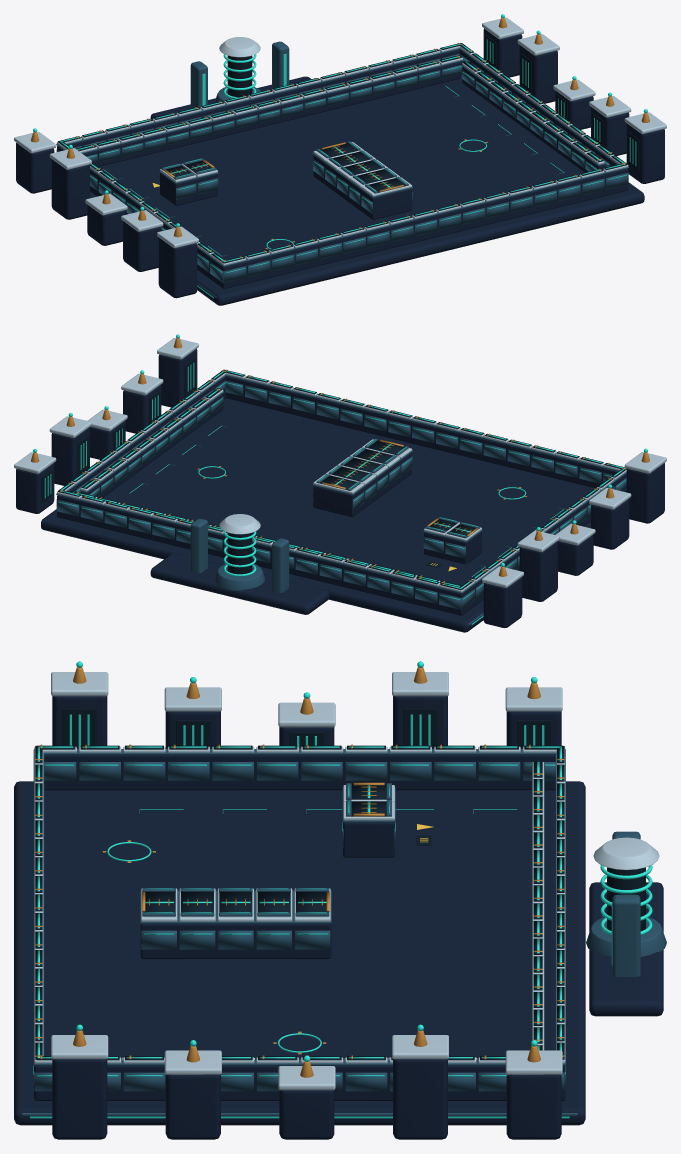
File: reactor.glb
3 renders of one model, top to bottom at view 1: azimuth 30°, elevation 25°; view 2: azimuth 150°, elevation 25°; view 3: azimuth 270°, elevation 25°, orthographic. The views are drawn at different scales.
Visible parts, largest first — view 1: Raised orbital deck, SOLID 1 border, SOLID 6 reflector, Exterior dock pylon.004, SOLID 0 border, Exterior dock pylon.001, SOLID 4 cover, Exterior dock pylon.009, Exterior dock pylon, Exterior dock pylon.003, Exterior dock pylon.006, SOLID 7 reflector (+24 smaller); view 2: Raised orbital deck, SOLID 1 border, SOLID 0 border, Horizon installation platform, Exterior dock pylon.004, Exterior dock pylon.001, SOLID 4 cover, Exterior dock pylon, Exterior dock pylon.003, Exterior dock pylon.009, Exterior dock pylon.006, Exterior dock pylon.005 (+24 smaller); view 3: Raised orbital deck, SOLID 2 border, Horizon installation platform, SOLID 3 border, Exterior dock pylon.009, Exterior dock pylon.006, Exterior dock pylon.008, Exterior dock pylon.005, SOLID 4 cover, Exterior dock pylon.007, Reactor retaining arm.001, SOLID 5 cover (+45 smaller).
Part boxes in pixels (left/top/right/bottom): Raised orbital deck: left=90, top=78, right=644, bottom=305; SOLID 1 border: left=221, top=169, right=628, bottom=288; SOLID 6 reflector: left=83, top=61, right=462, bottom=166; Exterior dock pylon.004: left=158, top=237, right=197, bottom=298; SOLID 0 border: left=68, top=49, right=459, bottom=147; Exterior dock pylon.001: left=51, top=159, right=89, bottom=219; SOLID 4 cover: left=313, top=155, right=411, bottom=219; Exterior dock pylon.009: left=626, top=123, right=664, bottom=183; Exterior dock pylon: left=16, top=143, right=54, bottom=193; Exterior dock pylon.003: left=123, top=221, right=161, bottom=271; Exterior dock pylon.006: left=519, top=45, right=557, bottom=103; SOLID 7 reflector: left=462, top=67, right=604, bottom=172; Raised orbital deck: left=41, top=398, right=593, bottom=632; SOLID 1 border: left=225, top=376, right=617, bottom=488; SOLID 0 border: left=57, top=496, right=463, bottom=615; Horizon installation platform: left=150, top=553, right=329, bottom=614; Exterior dock pylon.004: left=626, top=463, right=664, bottom=523; Exterior dock pylon.001: left=519, top=541, right=557, bottom=601; SOLID 4 cover: left=313, top=452, right=411, bottom=517; Exterior dock pylon: left=483, top=577, right=522, bottom=627; Exterior dock pylon.003: left=591, top=499, right=629, bottom=549; Exterior dock pylon.009: left=158, top=349, right=197, bottom=407; Exterior dock pylon.006: left=51, top=427, right=89, bottom=485; Exterior dock pylon.005: left=16, top=463, right=54, bottom=513; Raised orbital deck: left=14, top=781, right=585, bottom=1125; SOLID 2 border: left=44, top=755, right=555, bottom=790; Horizon installation platform: left=589, top=882, right=663, bottom=1016; SOLID 3 border: left=34, top=1065, right=565, bottom=1100; Exterior dock pylon.009: left=52, top=1059, right=107, bottom=1139; Exterior dock pylon.006: left=393, top=1059, right=447, bottom=1139; Exterior dock pylon.008: left=165, top=1074, right=220, bottom=1139; Exterior dock pylon.005: left=506, top=1074, right=561, bottom=1139; SOLID 4 cover: left=140, top=924, right=331, bottom=958; Exterior dock pylon.007: left=279, top=1090, right=334, bottom=1139; Reactor retaining arm.001: left=612, top=894, right=640, bottom=976; SOLID 5 cover: left=343, top=822, right=394, bottom=857.
Bounding box in the file's own units: 25.51 × 3.68 × 18.39.
